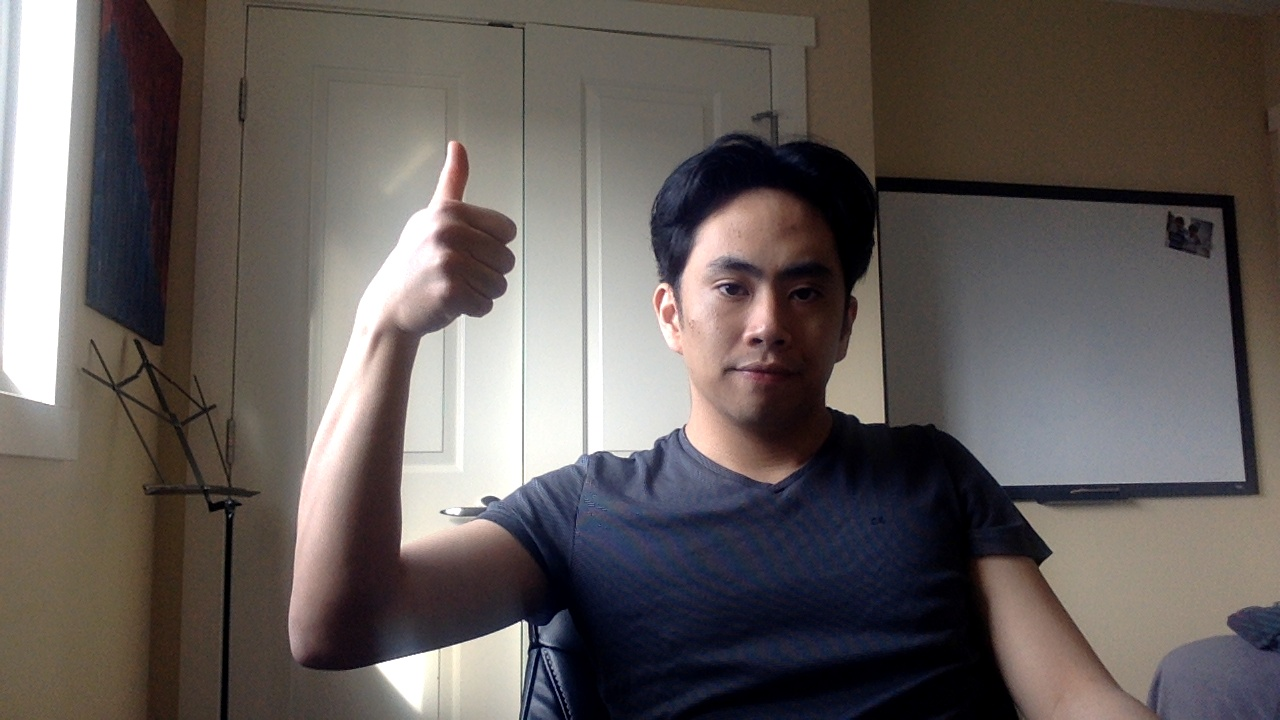ThumbsUp: (365, 135, 515, 341)
